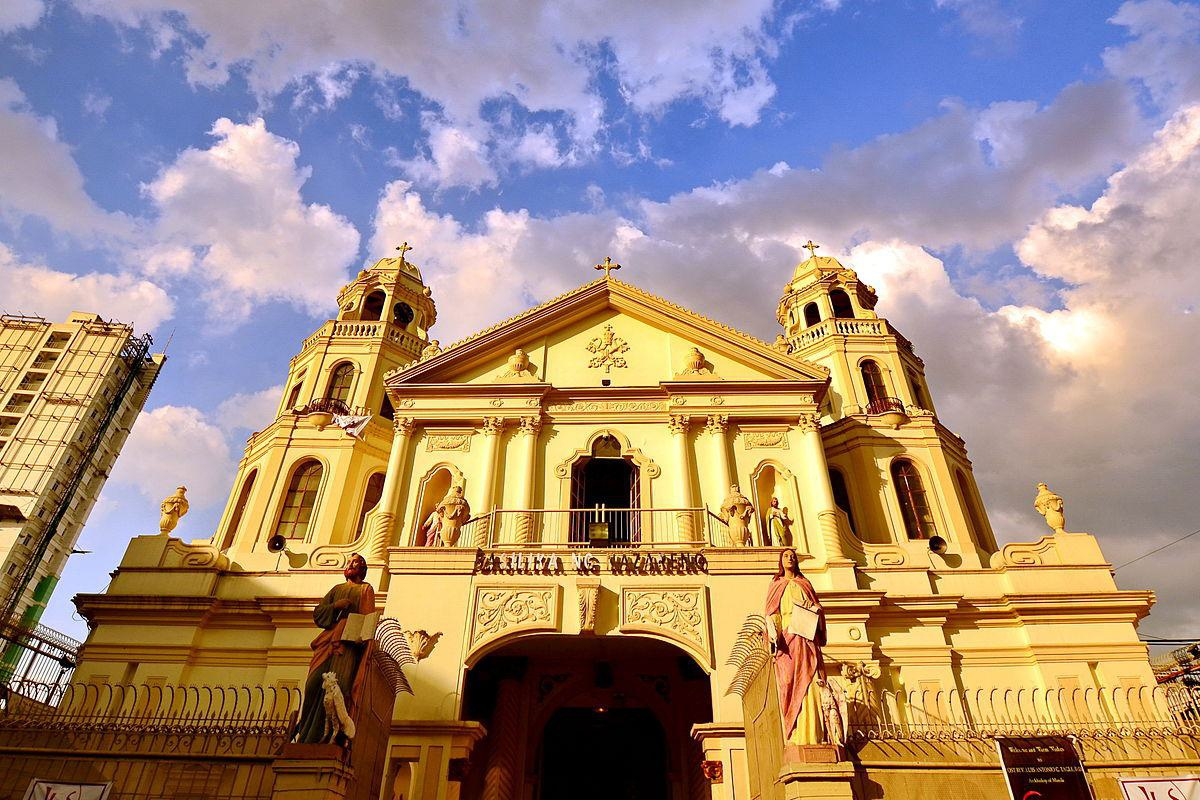quiapo_church_quiapo_manila: (93, 216, 1026, 800)
